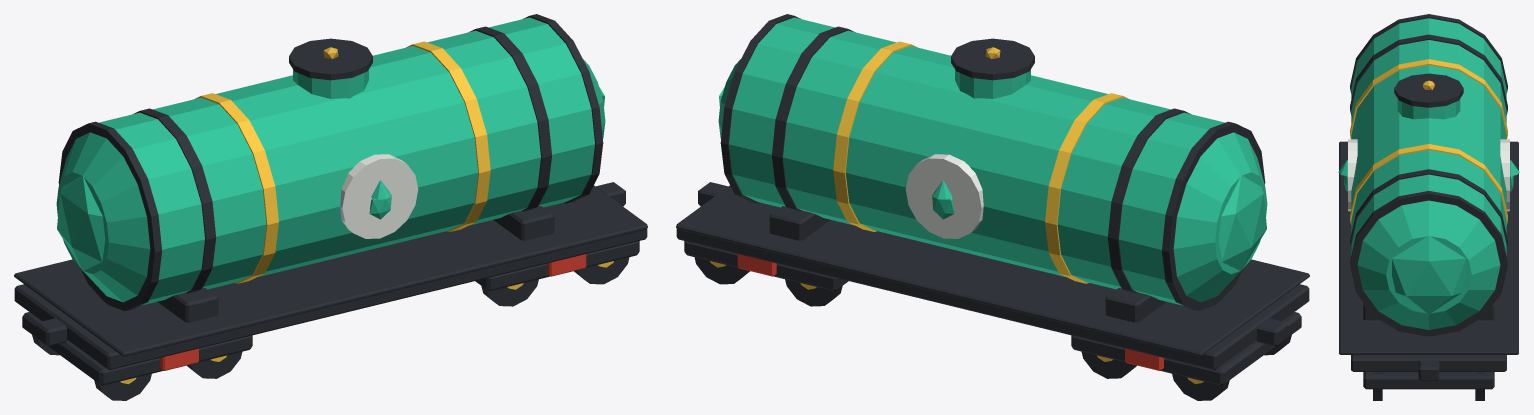
The model's file is sm_env_rail_wagon_tanker.glb.
The picture shows the model from 3 angles, left to right: view 1: azimuth 30°, elevation 25°; view 2: azimuth 150°, elevation 25°; view 3: azimuth 270°, elevation 25°; orthographic projection. The views are drawn at different scales.
Parts seen in each view (by area): view 1: Tank, Walkway, TankEnd, Frame, Badge, TankEndRing, TankEndCap, BogieFrame, DomeLid, TankStripe.001, TankStripe, TankBand.001 (+13 smaller); view 2: Tank, Walkway, TankEnd, Frame, Badge.001, TankEndRing, TankEndCap, BogieFrame, DomeLid, TankStripe.001, TankStripe, TankBand.001 (+13 smaller); view 3: Tank, TankEnd.001, Walkway, TankEndCap.001, TankEndRing.001, Frame, BogieFrame.001, DomeLid, TankStripe.001, TankStripe, TankBand, TankBand.001 (+6 smaller).
Boxes of the visible parts, <box> form: Tank: <box>99,17,594,305</box>; Walkway: <box>14,186,647,356</box>; TankEnd: <box>56,132,150,302</box>; Frame: <box>14,185,647,370</box>; Badge: <box>340,154,418,238</box>; TankEndRing: <box>58,121,161,311</box>; TankEndCap: <box>57,175,105,270</box>; BogieFrame: <box>22,312,252,385</box>; DomeLid: <box>289,38,372,80</box>; TankStripe.001: <box>406,41,490,231</box>; TankStripe: <box>194,93,278,283</box>; TankBand.001: <box>469,26,551,211</box>; Tank: <box>729,17,1224,305</box>; Walkway: <box>676,186,1309,356</box>; TankEnd: <box>1173,132,1267,302</box>; Frame: <box>676,185,1309,370</box>; Badge.001: <box>905,154,983,238</box>; TankEndRing: <box>1162,121,1265,311</box>; TankEndCap: <box>1218,175,1266,270</box>; BogieFrame: <box>1071,312,1301,385</box>; DomeLid: <box>951,38,1034,80</box>; TankStripe.001: <box>833,41,917,231</box>; TankStripe: <box>1045,93,1129,283</box>; TankBand.001: <box>772,26,854,211</box>; Tank: <box>1351,18,1506,255</box>; TankEnd.001: <box>1357,200,1500,329</box>; Walkway: <box>1339,141,1518,354</box>; TankEndCap.001: <box>1392,235,1465,314</box>; TankEndRing.001: <box>1350,191,1507,336</box>; Frame: <box>1351,355,1506,371</box>; BogieFrame.001: <box>1363,372,1494,389</box>; DomeLid: <box>1394,73,1463,107</box>; TankStripe.001: <box>1350,144,1507,224</box>; TankStripe: <box>1350,59,1507,138</box>; TankBand: <box>1350,34,1507,114</box>; TankBand.001: <box>1350,169,1507,249</box>.
Size of the model in its own units: 7.94 by 3.54 by 2.62.
